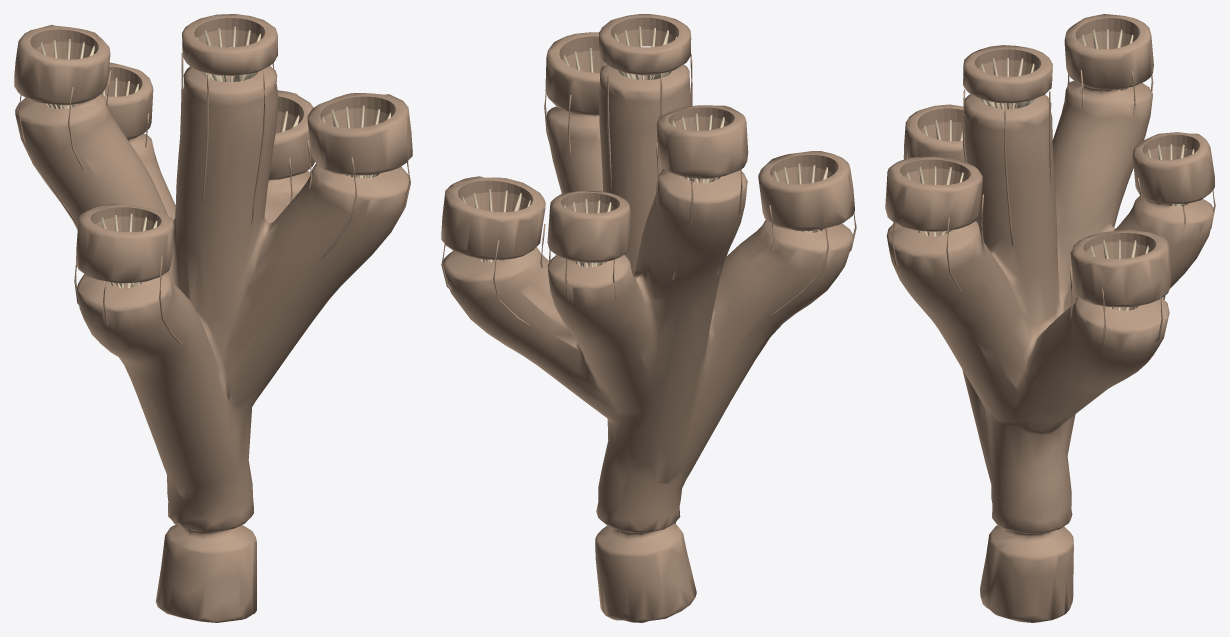
Rendered from thecosmilia.glb.
3 views of the same model, side by side, from view 1: azimuth 30°, elevation 25°; view 2: azimuth 150°, elevation 25°; view 3: azimuth 270°, elevation 25° (orthographic). The views are drawn at different scales.
Parts seen in each view (by area): view 1: naturally-forked-thick-branch-corallum, restrained-longitudinal-corallite-costae, simplified-unequal-radial-cup-septa; view 2: naturally-forked-thick-branch-corallum, restrained-longitudinal-corallite-costae, simplified-unequal-radial-cup-septa; view 3: naturally-forked-thick-branch-corallum, restrained-longitudinal-corallite-costae, simplified-unequal-radial-cup-septa.
Boxes of the visible parts, x1,y1,x2,y2 form: naturally-forked-thick-branch-corallum: [14, 14, 412, 622]; restrained-longitudinal-corallite-costae: [18, 52, 410, 347]; simplified-unequal-radial-cup-septa: [40, 26, 390, 288]; naturally-forked-thick-branch-corallum: [441, 14, 854, 622]; restrained-longitudinal-corallite-costae: [441, 54, 856, 327]; simplified-unequal-radial-cup-septa: [462, 26, 827, 267]; naturally-forked-thick-branch-corallum: [885, 14, 1214, 622]; restrained-longitudinal-corallite-costae: [892, 70, 1215, 355]; simplified-unequal-radial-cup-septa: [907, 29, 1194, 310].
Bounding box in the file's own units: 0.1154 × 0.2003 × 0.1093.
